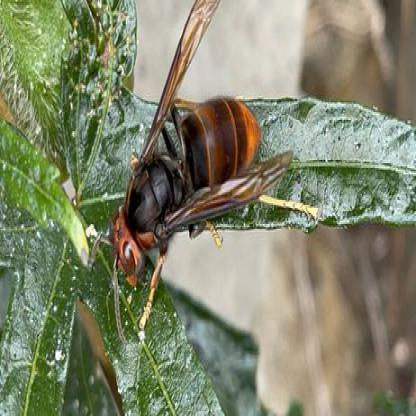Asian Hornet: (102, 0, 288, 342)
